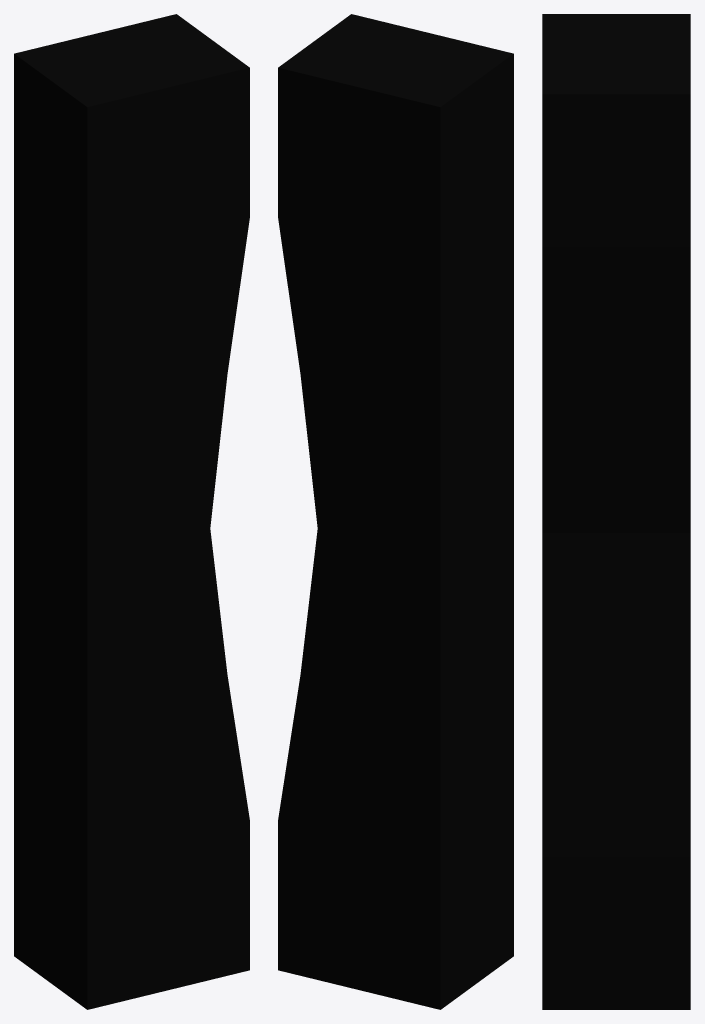
Rendered from WoodenBoard_2.fbx.
3 views of the same model, side by side, from view 1: azimuth 30°, elevation 25°; view 2: azimuth 150°, elevation 25°; view 3: azimuth 270°, elevation 25° (orthographic).
Visible parts, largest first — view 1: Cube; view 2: Cube; view 3: Cube.
Part boxes in pixels (<box>): Cube: <box>14,14,249,1009</box>; Cube: <box>278,14,513,1009</box>; Cube: <box>542,14,690,1009</box>.
Size of the model in its own units: 37.67 by 200 by 29.43.
